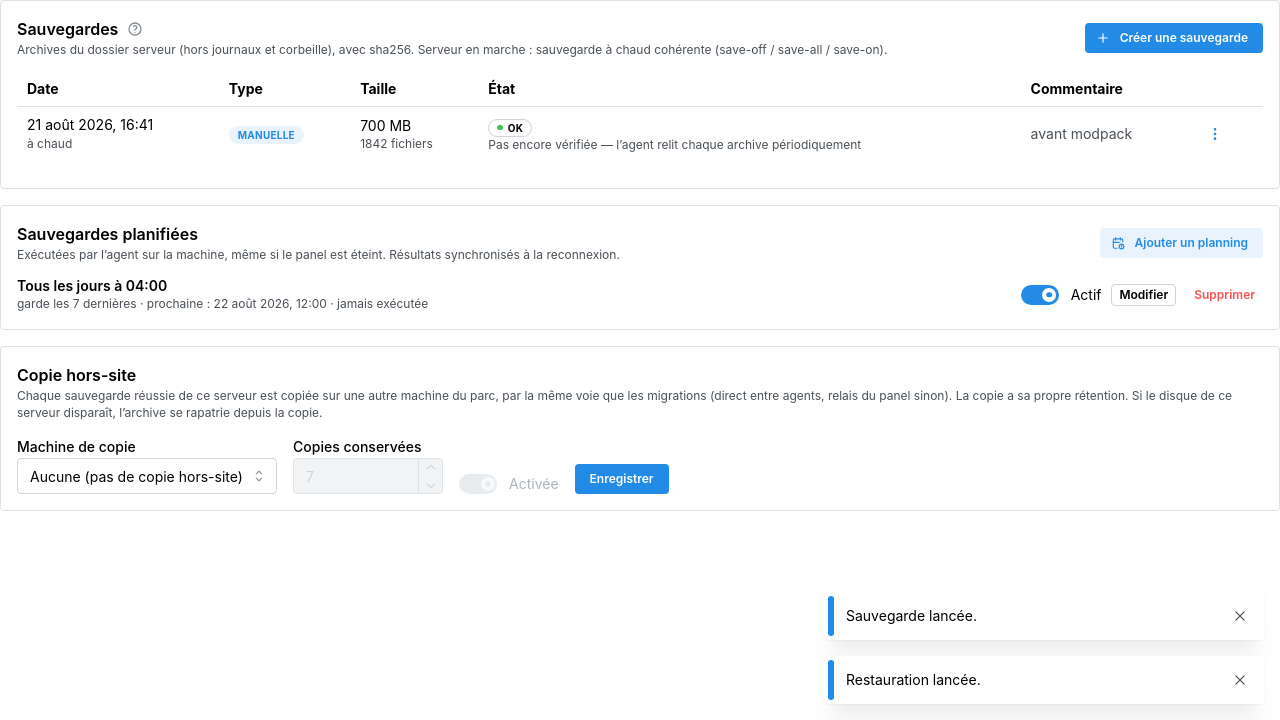
BackupsPanel › lot 4 : « Restaurer des fichiers… » ouvre la modale de restauration partielle et lit l’archive
Click the button with test id "backup-actions-bk1".
click(1215, 134)  # box 1198,121 -> 1232,147
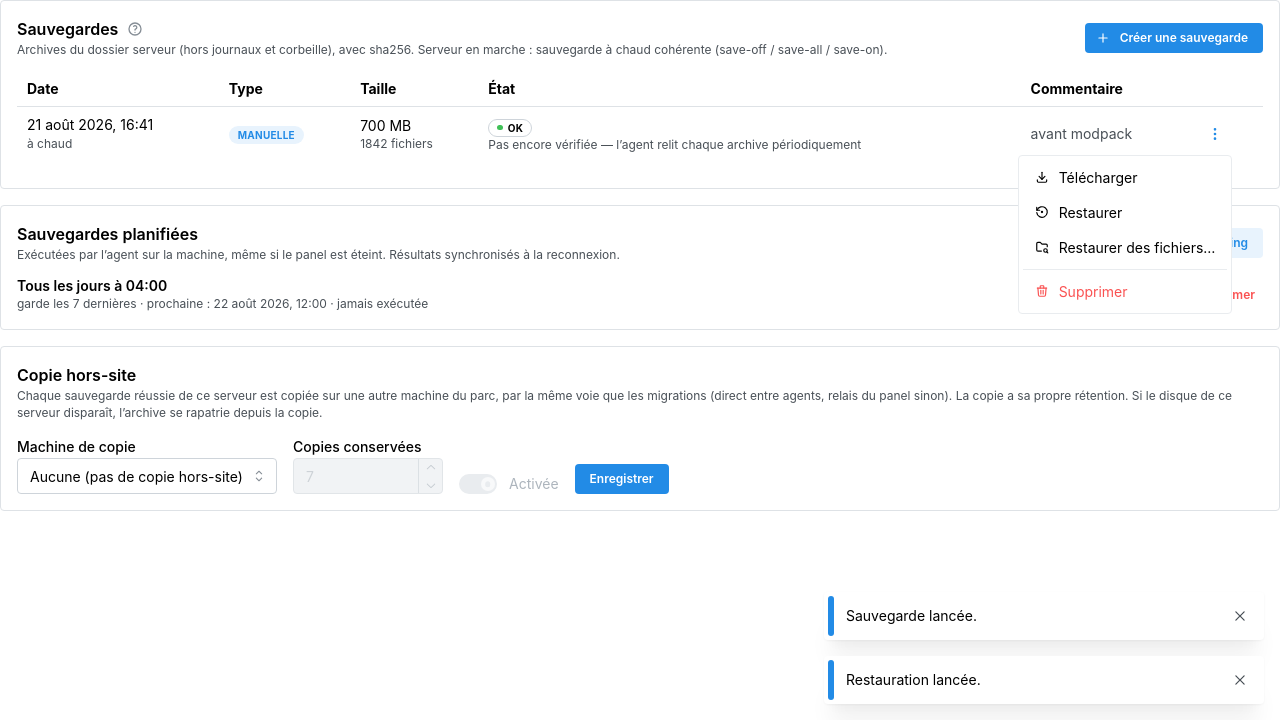
Click the menu item with test id "backup-restore-paths-bk1".
click(1125, 247)  # box 1023,230 -> 1227,265
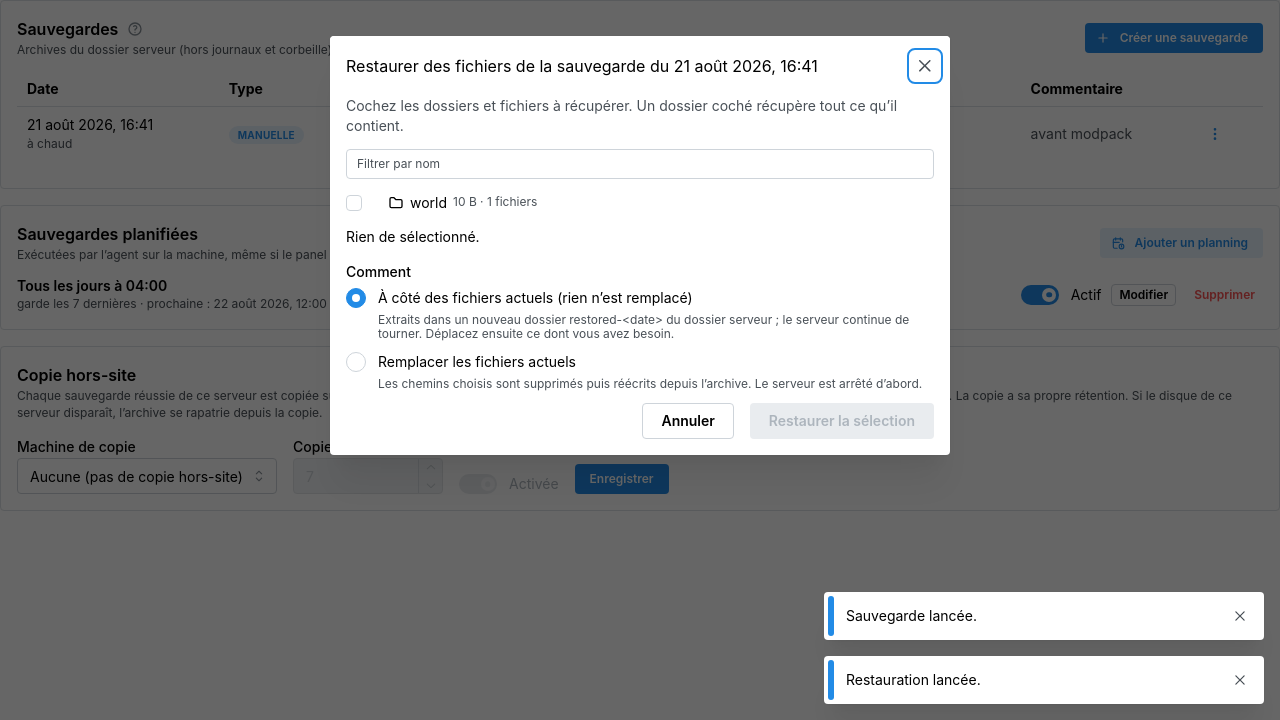
Check: the checkbox with test id "restore-path-world" is shown, box 346,195 -> 362,211
